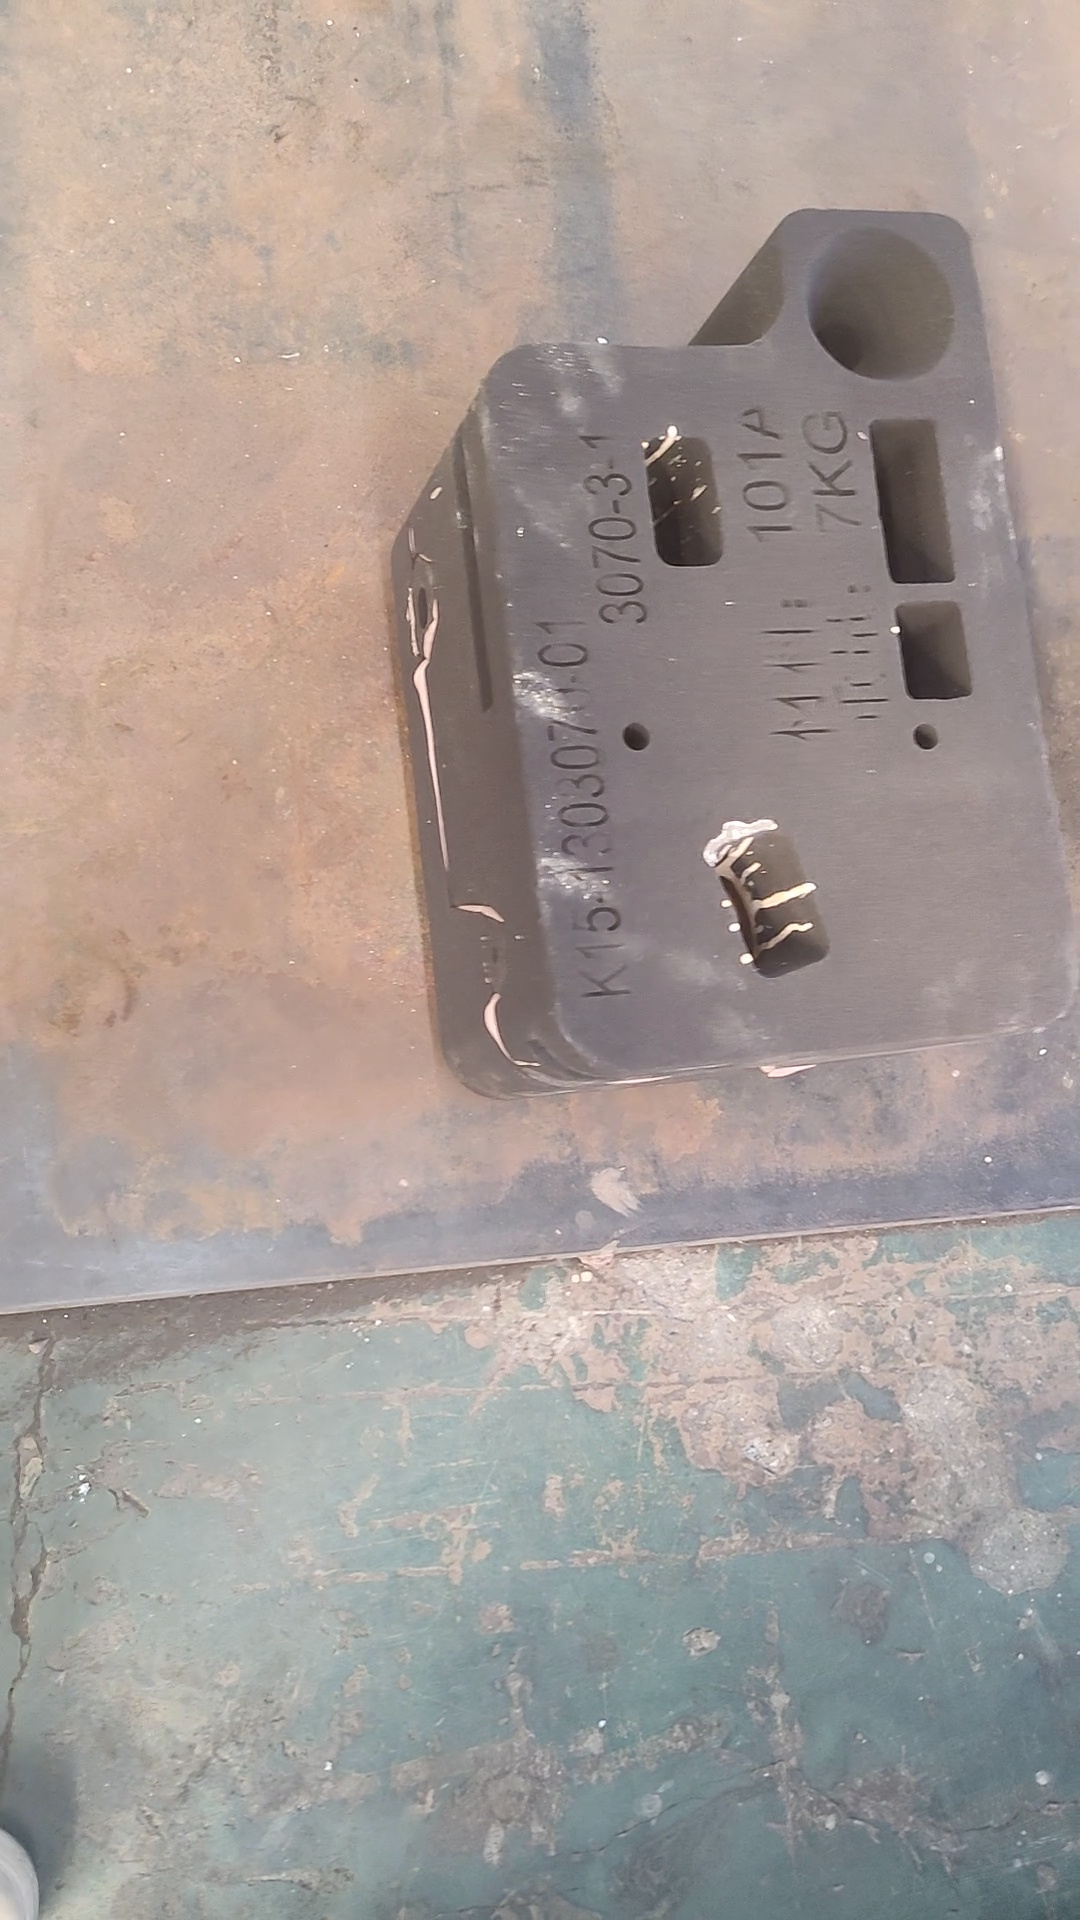pouring hole: (804, 224, 953, 380)
